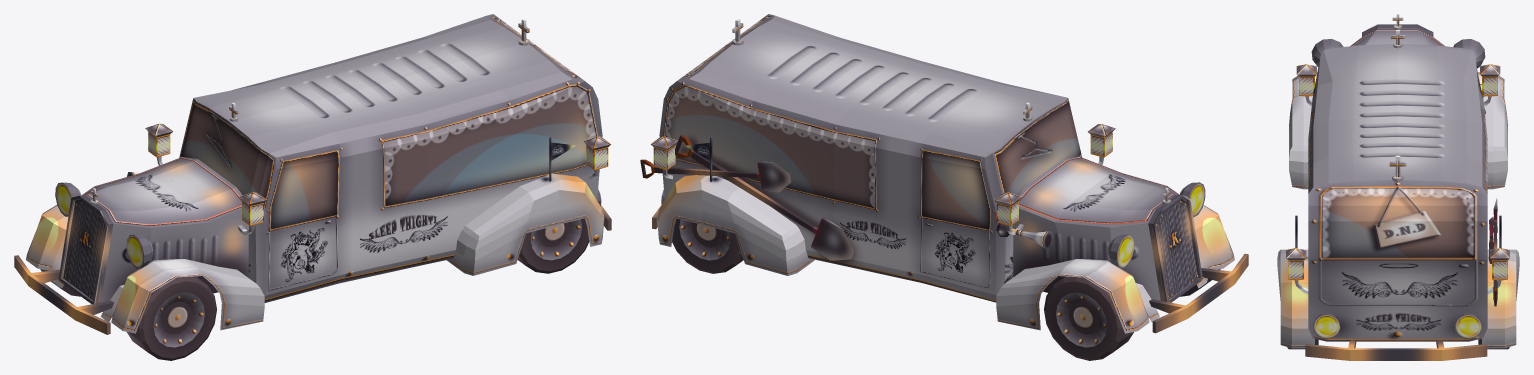
File: hearse.FBX
The picture shows the model from 3 angles, left to right: view 1: azimuth 30°, elevation 25°; view 2: azimuth 150°, elevation 25°; view 3: azimuth 270°, elevation 25°; orthographic projection. The views are drawn at different scales.
Visible parts, largest first — view 1: Box001; view 2: Box001; view 3: Box001.
Boxes of the visible parts, <box> form: Box001: <box>14,14,611,360</box>; Box001: <box>640,14,1248,360</box>; Box001: <box>1277,14,1519,360</box>.
Bounding box in the file's own units: 201 × 75.58 × 82.85.
